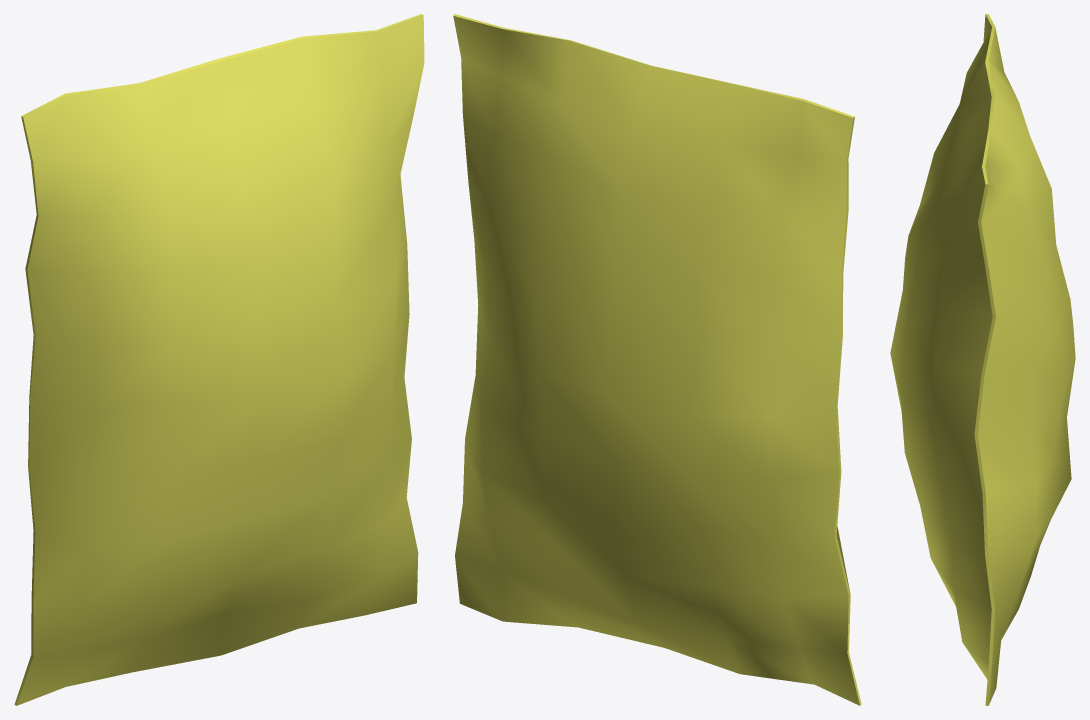
File: SacchettoPatatineClassica.fbx
3 renders of one model, left to right at view 1: azimuth 30°, elevation 25°; view 2: azimuth 150°, elevation 25°; view 3: azimuth 270°, elevation 25°, orthographic. The views are drawn at different scales.
Parts seen in each view (by area): view 1: SacchettoChips; view 2: SacchettoChips; view 3: SacchettoChips.
Boxes of the visible parts, x1=… form: SacchettoChips: x1=14, y1=14, x2=424, y2=705; SacchettoChips: x1=453, y1=14, x2=861, y2=705; SacchettoChips: x1=890, y1=14, x2=1075, y2=705.
Size of the model in its own units: 187 by 261 by 82.28.
